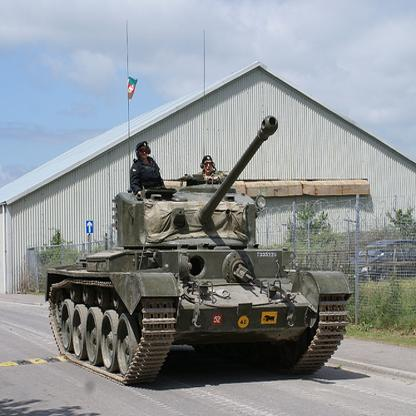Tank: (46, 116, 356, 389)
